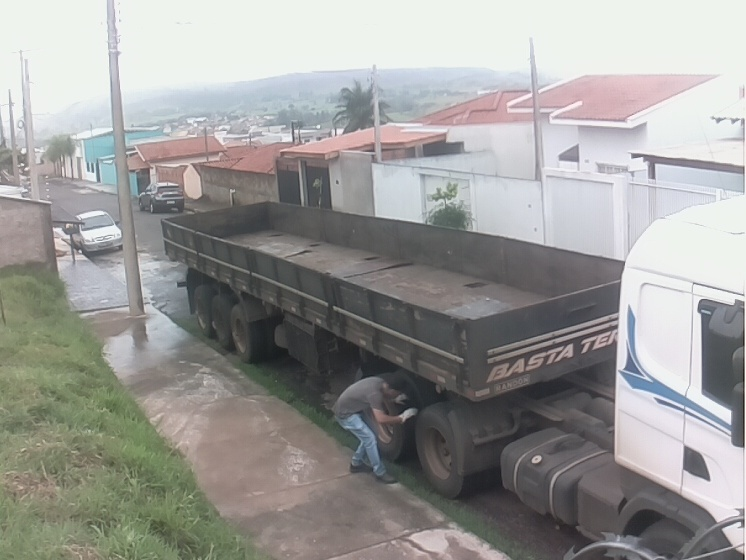person: (332, 374, 418, 486)
